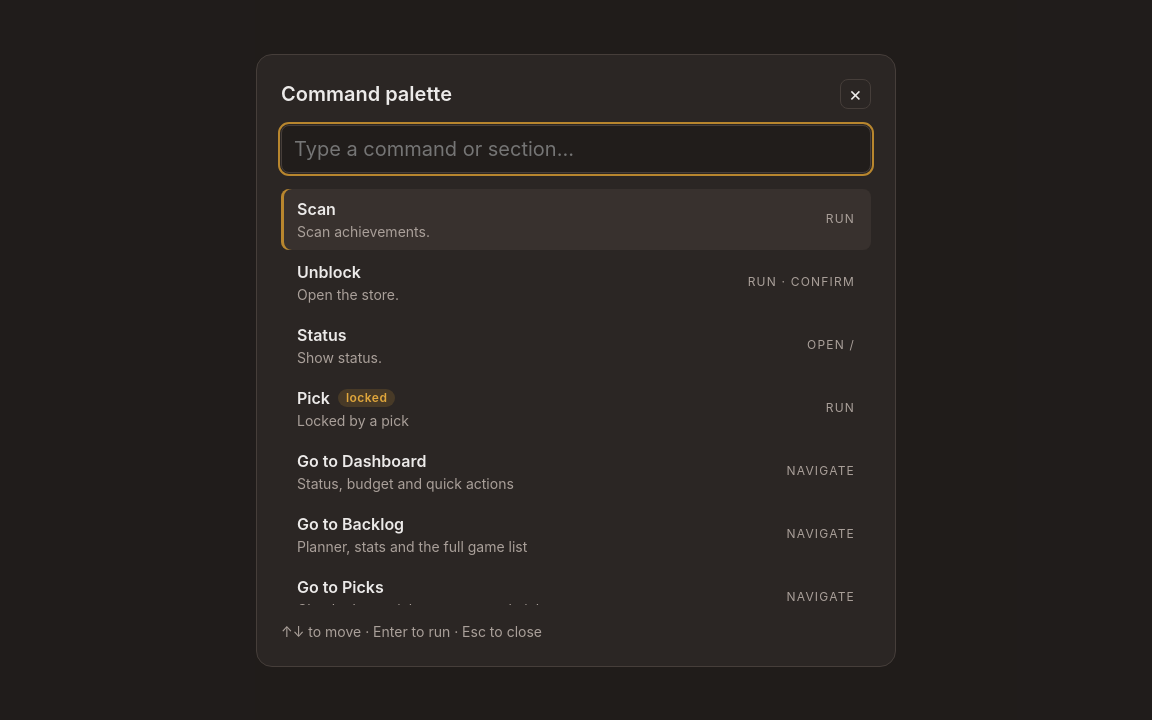
Scenario: CommandPalette › filters by text and says when nothing matches
The image size is (1152, 720).
Check: the text "Scan achievements." is shown, box 297,222 -> 430,240
Type "store" into the dropdown named "Search commands" at (576, 148), box 281,124 -> 871,172
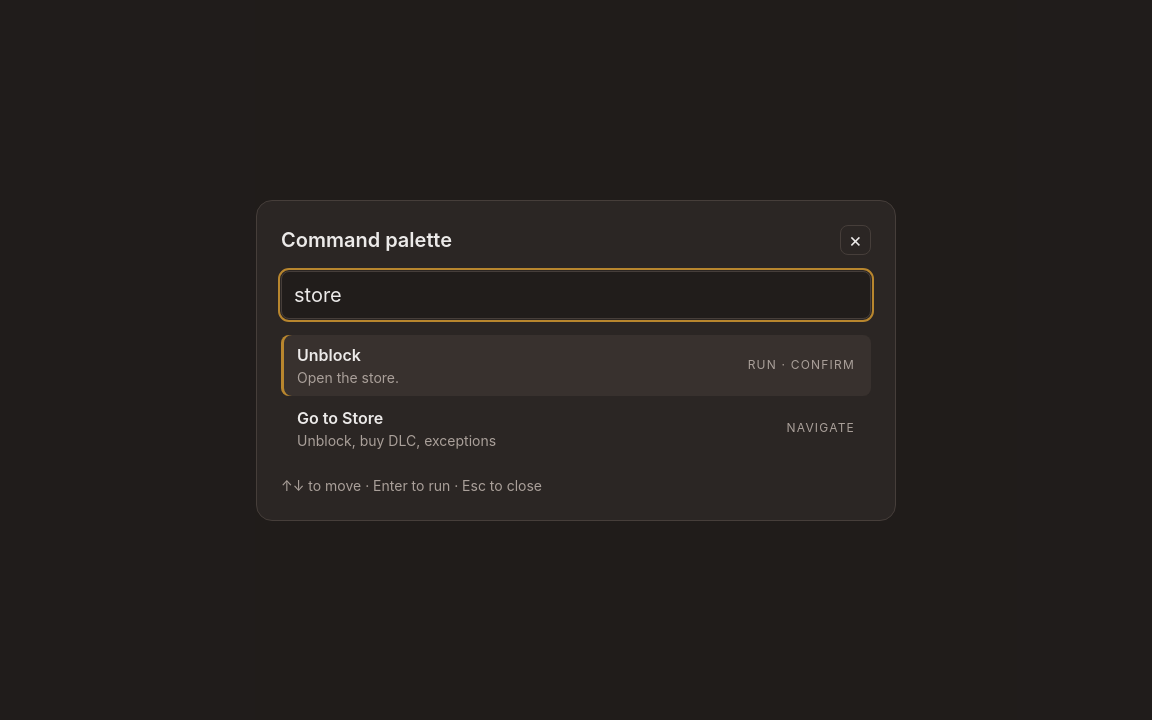
Check: the number of options is 2, box 281,334 -> 871,396; 281,398 -> 871,458
Clear the dropdown named "Search commands" at (576, 294), box 281,270 -> 871,318
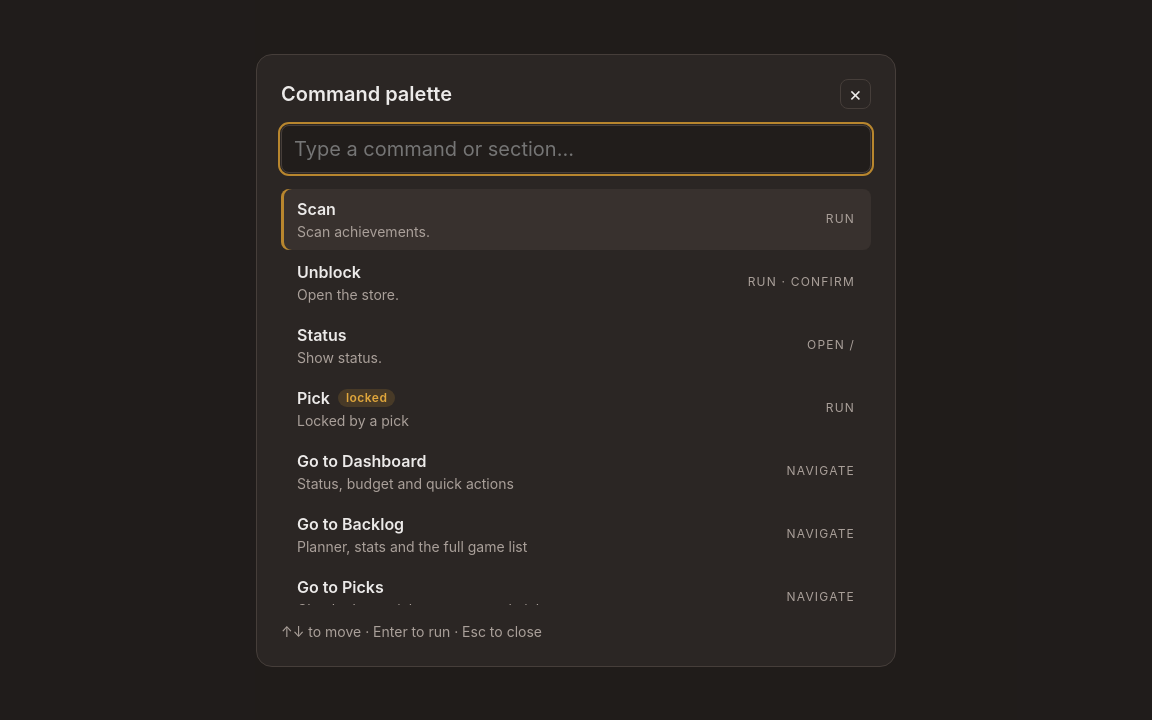
Type "zzz" into the dropdown named "Search commands" at (576, 148), box 281,124 -> 871,172
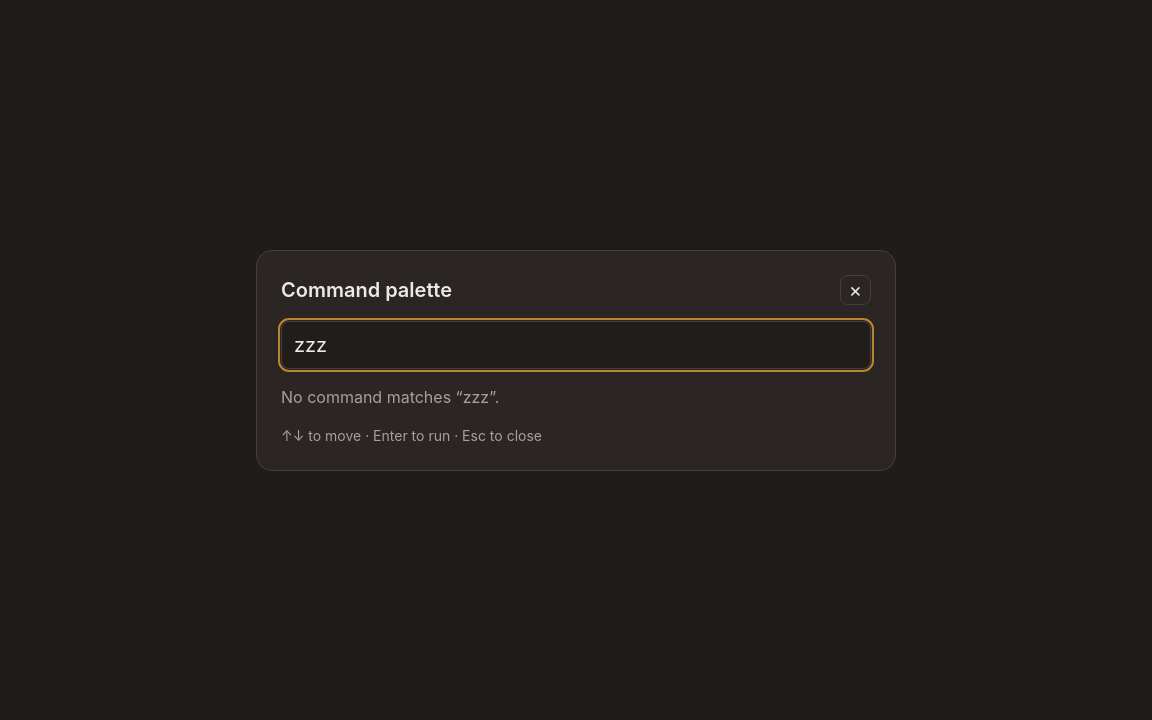
Check: the list item "No command matches “zzz”." is shown, box 281,386 -> 499,406
